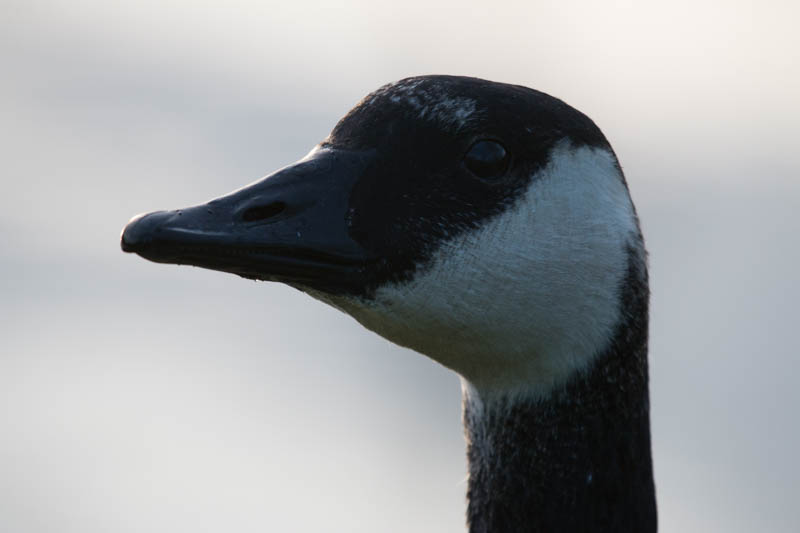goose-head: (120, 74, 650, 391)
